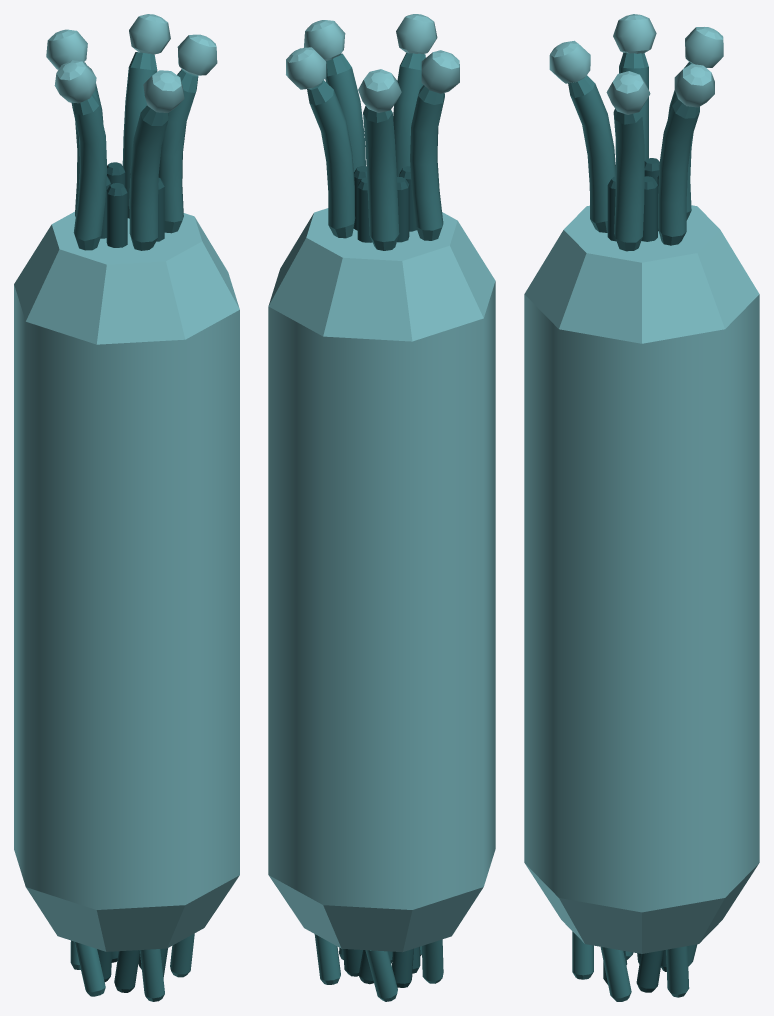
The model's file is M13BacteriophageConnected.fbx.
The picture shows the model from 3 angles, left to right: view 1: azimuth 30°, elevation 25°; view 2: azimuth 150°, elevation 25°; view 3: azimuth 270°, elevation 25°; orthographic projection.
Visible parts, largest first — view 1: phagebody001; view 2: phagebody001; view 3: phagebody001.
Boxes of the visible parts, x1,y1,x2,y2 form: phagebody001: (14,14,239,1001); phagebody001: (268,14,495,1001); phagebody001: (524,14,759,1001).
Bounding box in the file's own units: 17.71 × 77.83 × 17.71.
